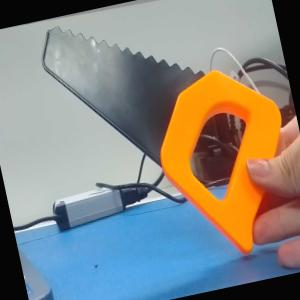serrote: (32, 0, 297, 287)
